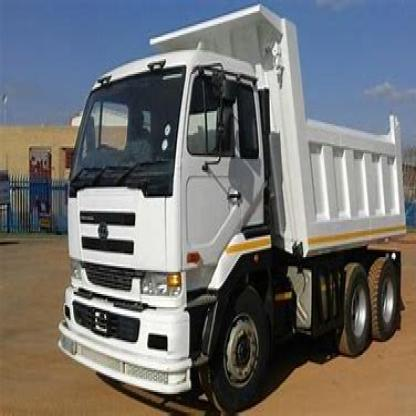dump_truck: (52, 4, 414, 414)
